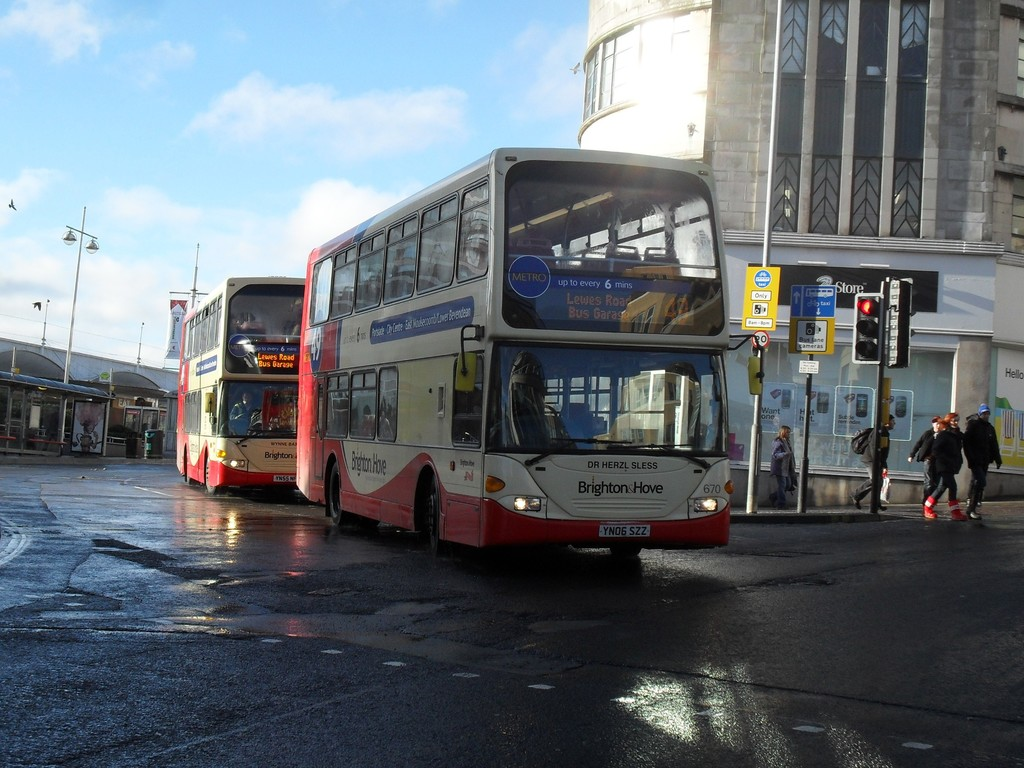Bus: (291, 141, 762, 555), (171, 277, 314, 492)
